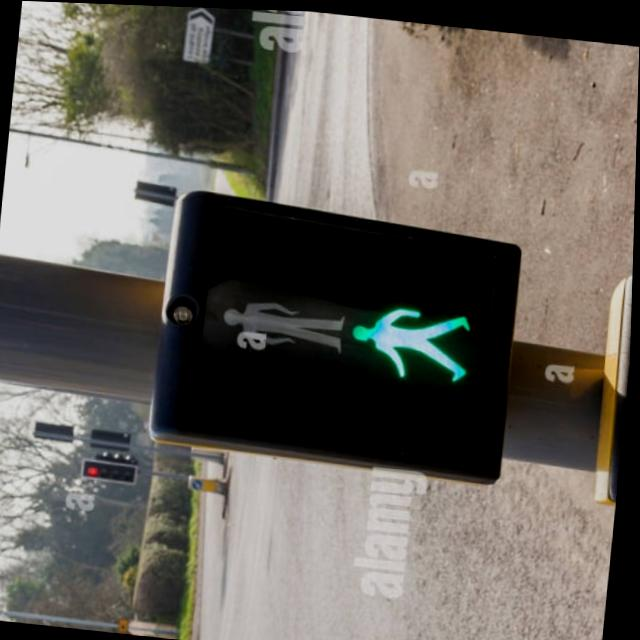green_light: (339, 280, 487, 403)
